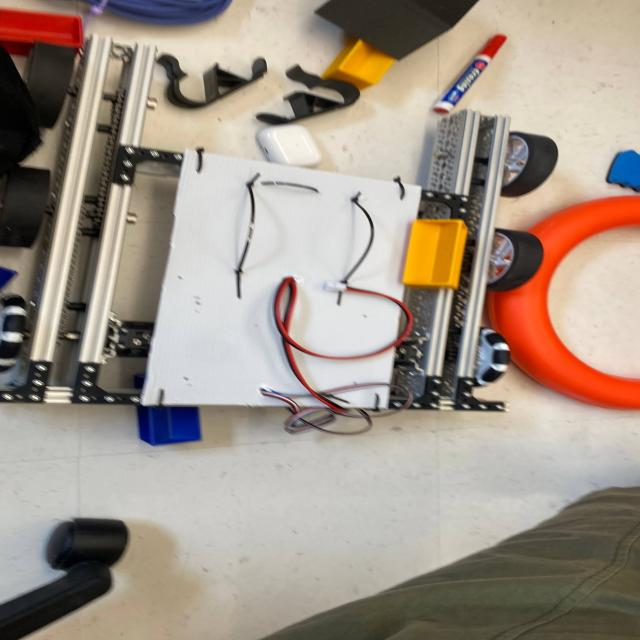blue-specimen: (137, 406, 201, 446), (0, 267, 18, 291), (133, 374, 144, 392)
red-specimen: (0, 8, 84, 56)
yellow-specimen: (402, 219, 467, 290), (321, 38, 394, 90)
